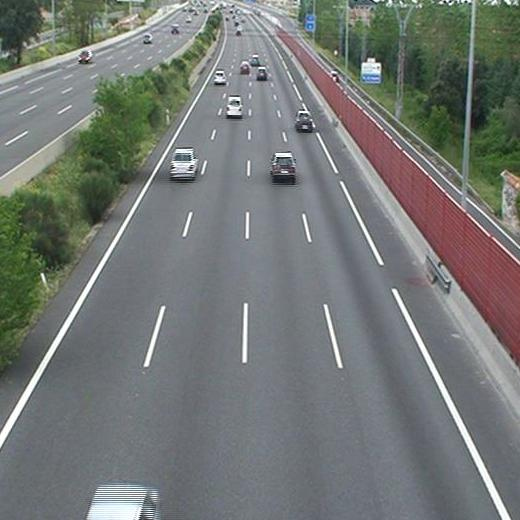car: (170, 149, 197, 179), (272, 153, 295, 177), (225, 95, 242, 116), (295, 111, 312, 131), (213, 71, 226, 84), (256, 68, 267, 79), (250, 55, 260, 66), (239, 62, 249, 72)
